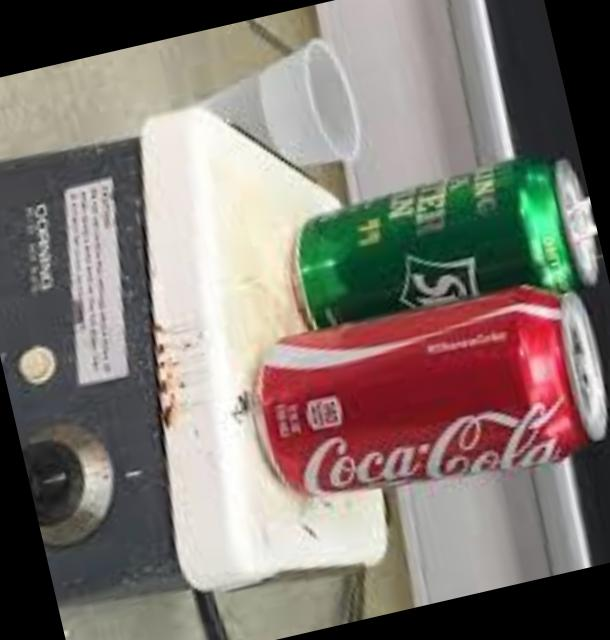metal: (255, 285, 606, 494), (295, 157, 598, 328)
